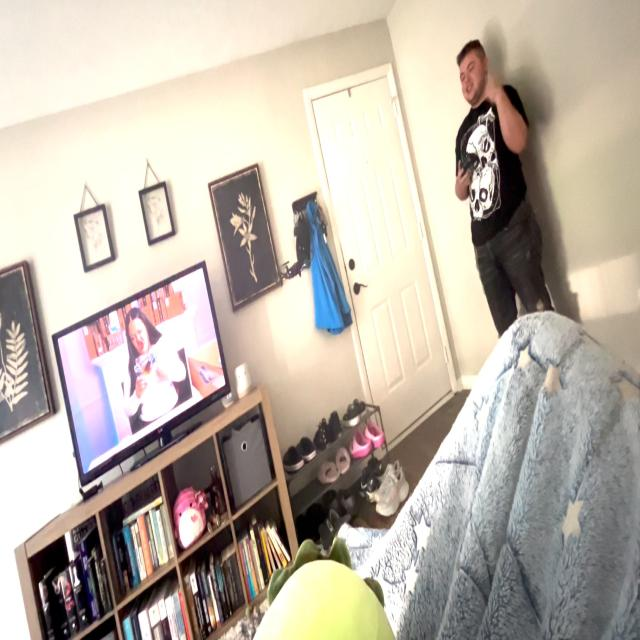drone: (266, 233, 316, 300)
